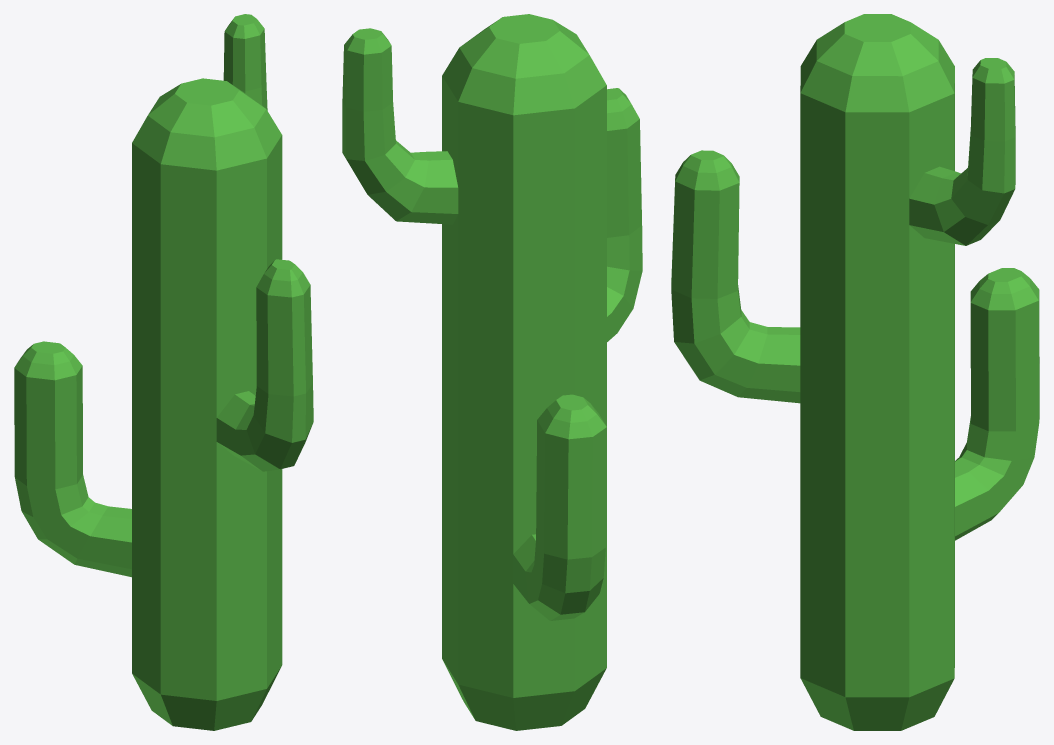
The model's file is Cactus_Tall.fbx.
The picture shows the model from 3 angles, left to right: view 1: azimuth 30°, elevation 25°; view 2: azimuth 150°, elevation 25°; view 3: azimuth 270°, elevation 25°; orthographic projection. The views are drawn at different scales.
Visible parts, largest first — view 1: Cactus_Tall; view 2: Cactus_Tall; view 3: Cactus_Tall.
Part boxes in pixels (x1,y1,x2,y2): Cactus_Tall: [14, 14, 313, 730]; Cactus_Tall: [342, 14, 642, 730]; Cactus_Tall: [671, 14, 1039, 730].
Bounding box in the file's own units: 96.57 × 245 × 118.
